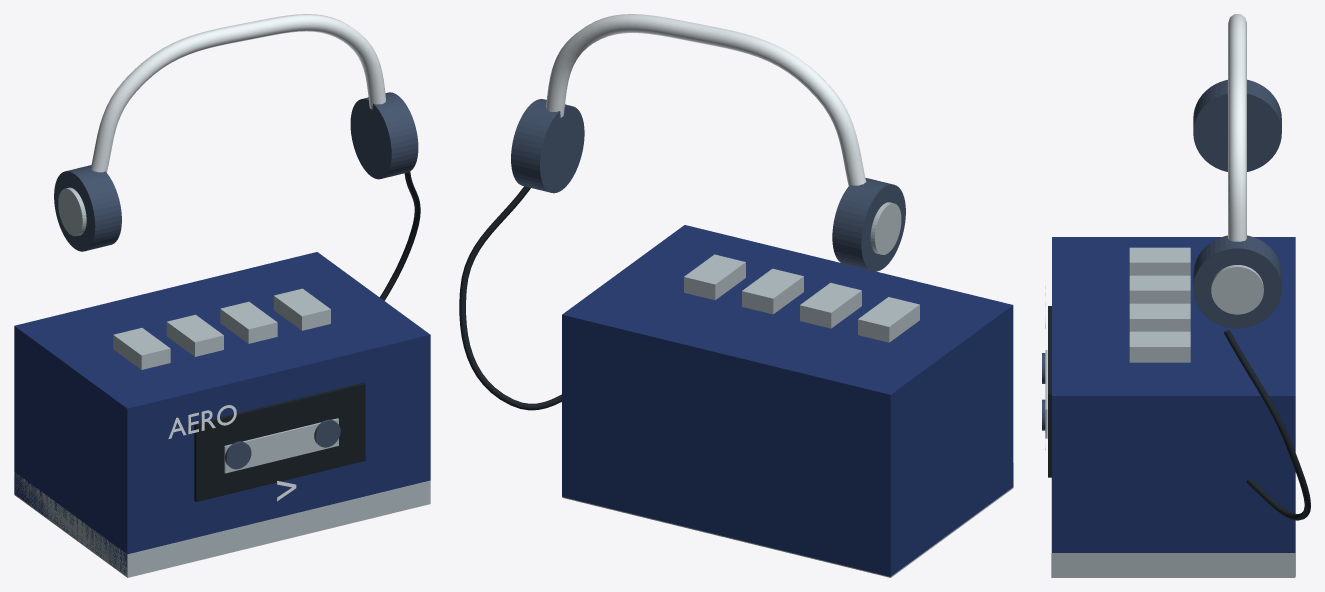
The model's file is midnight_cassette_player.glb.
3 views of the same model, side by side, from view 1: azimuth 30°, elevation 25°; view 2: azimuth 150°, elevation 25°; view 3: azimuth 270°, elevation 25° (orthographic). The views are drawn at different scales.
Parts seen in each view (by area): view 1: Navy cassette player, Cassette window, Silver bottom edge, Headset band, Headset ear pad.001, Headset ear pad, Tape visible, Control switch, Control switch.001, Control switch.002, Control switch.003, Headset metal badge (+4 smaller); view 2: Navy cassette player, Headset band, Headset ear pad.001, Headset ear pad, Headphone wire, Control switch.003, Control switch, Control switch.002, Control switch.001, Headset metal badge, Silver bottom edge; view 3: Navy cassette player, Silver bottom edge, Headset ear pad, Headset ear pad.001, Headset band, Headset metal badge.001, Control switch.003, Headphone wire, Control switch, Control switch.001, Control switch.002, Cassette window.
Part boxes in pixels (x1=…): Navy cassette player: x1=14, y1=252, x2=430, y2=574; Cassette window: x1=194, y1=382, x2=365, y2=502; Silver bottom edge: x1=14, y1=472, x2=430, y2=577; Headset band: x1=90, y1=14, x2=385, y2=172; Headset ear pad.001: x1=350, y1=92, x2=418, y2=179; Headset ear pad: x1=54, y1=165, x2=121, y2=251; Tape visible: x1=224, y1=418, x2=338, y2=473; Control switch: x1=113, y1=328, x2=170, y2=369; Control switch.001: x1=166, y1=314, x2=223, y2=356; Control switch.002: x1=220, y1=301, x2=277, y2=343; Control switch.003: x1=273, y1=288, x2=330, y2=330; Headset metal badge: x1=58, y1=187, x2=86, y2=236; Navy cassette player: x1=562, y1=225, x2=1013, y2=576; Headset band: x1=546, y1=14, x2=866, y2=185; Headset ear pad.001: x1=511, y1=99, x2=584, y2=193; Headset ear pad: x1=832, y1=177, x2=905, y2=271; Headphone wire: x1=459, y1=186, x2=561, y2=410; Control switch.003: x1=684, y1=254, x2=745, y2=300; Control switch: x1=858, y1=297, x2=919, y2=342; Control switch.002: x1=742, y1=268, x2=803, y2=314; Control switch.001: x1=800, y1=282, x2=861, y2=328; Headset metal badge: x1=870, y1=202, x2=901, y2=254; Silver bottom edge: x1=562, y1=463, x2=1013, y2=577; Navy cassette player: x1=1052, y1=237, x2=1295, y2=576; Silver bottom edge: x1=1051, y1=477, x2=1295, y2=577; Headset ear pad: x1=1193, y1=79, x2=1281, y2=171; Headset ear pad.001: x1=1193, y1=235, x2=1281, y2=328; Headset band: x1=1228, y1=14, x2=1246, y2=241; Headset metal badge.001: x1=1211, y1=265, x2=1263, y2=314; Control switch.003: x1=1129, y1=331, x2=1190, y2=362; Headphone wire: x1=1224, y1=329, x2=1310, y2=520; Control switch: x1=1129, y1=247, x2=1190, y2=275; Control switch.001: x1=1129, y1=275, x2=1190, y2=303; Control switch.002: x1=1129, y1=303, x2=1190, y2=331; Cassette window: x1=1048, y1=306, x2=1051, y2=477.
Size of the model in its own units: 1.79 by 1.89 by 0.9709.
